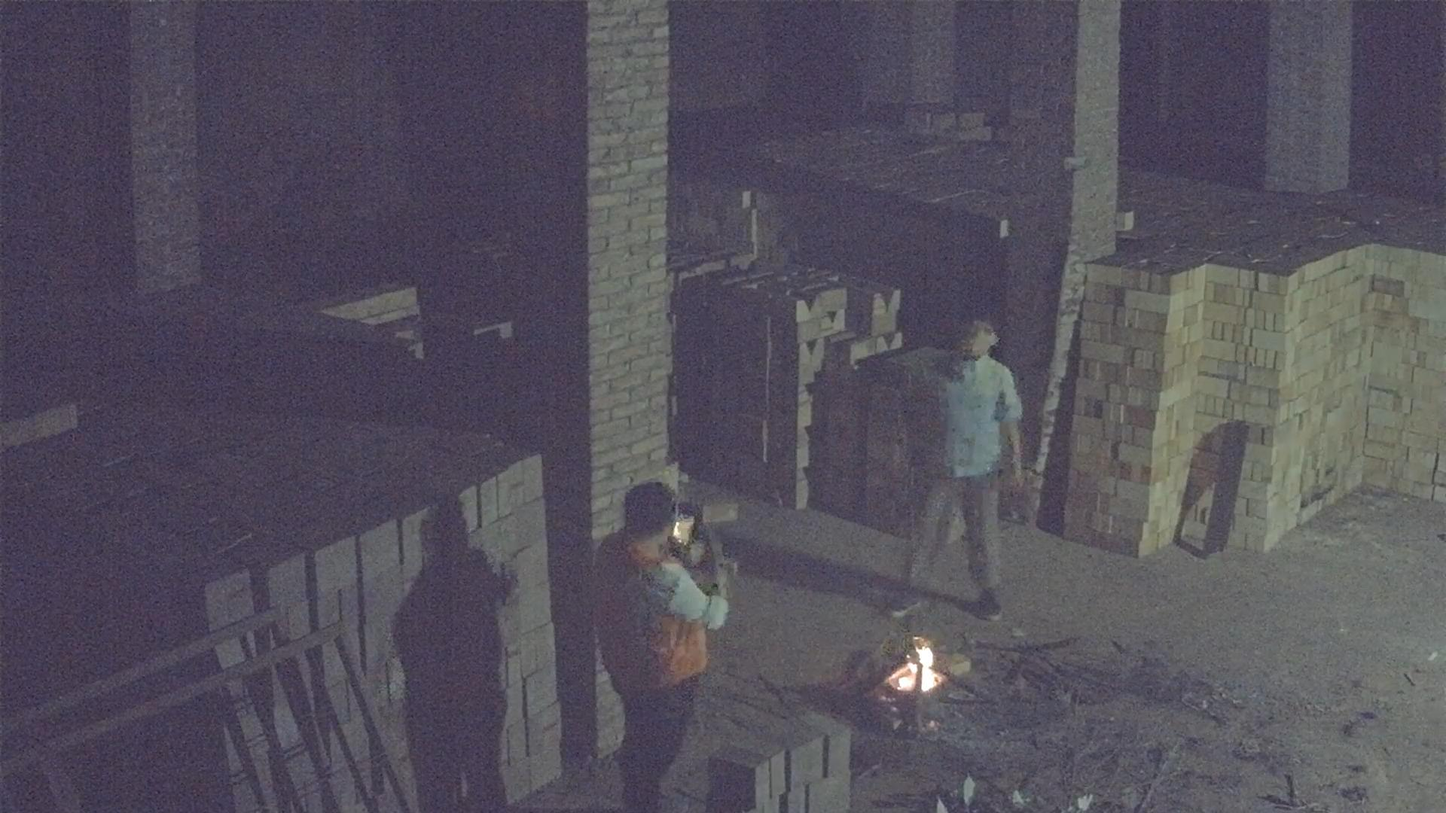fire: (885, 638, 945, 694)
